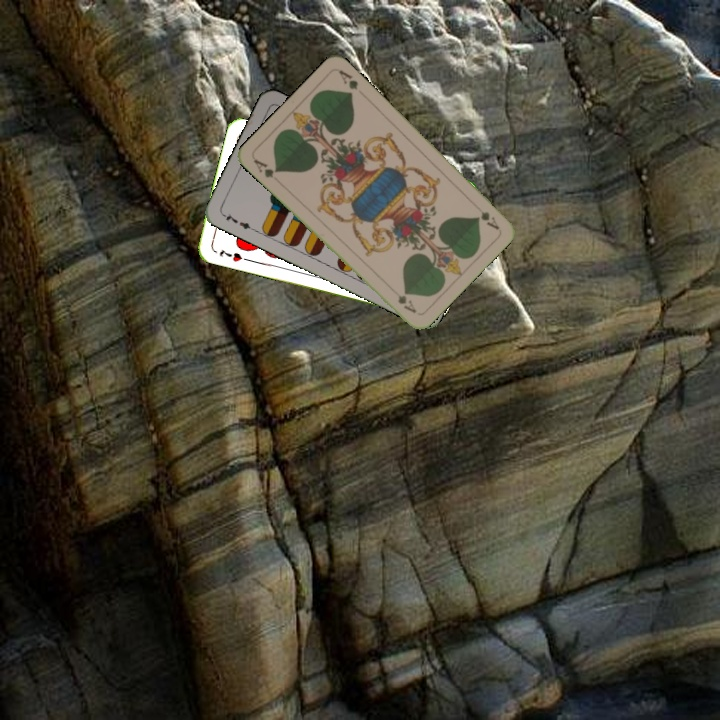E7: (219, 209, 257, 233)
GA: (249, 155, 280, 180), (476, 207, 502, 232)
H7: (215, 245, 245, 264)
